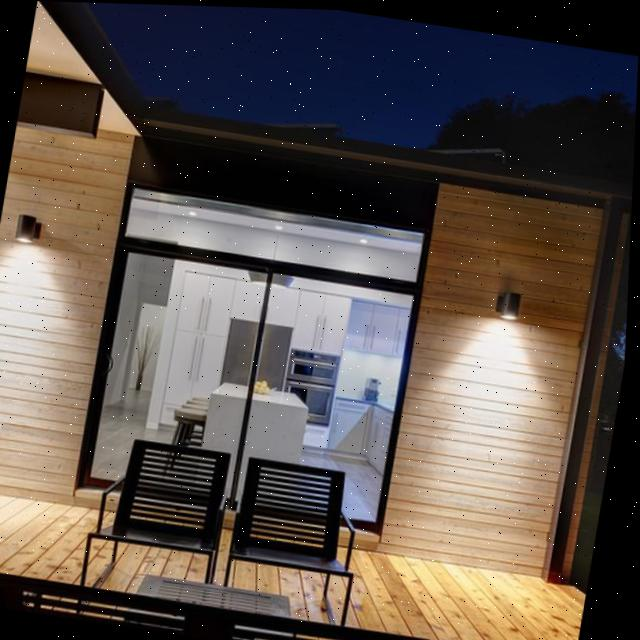building: (0, 0, 640, 590)
